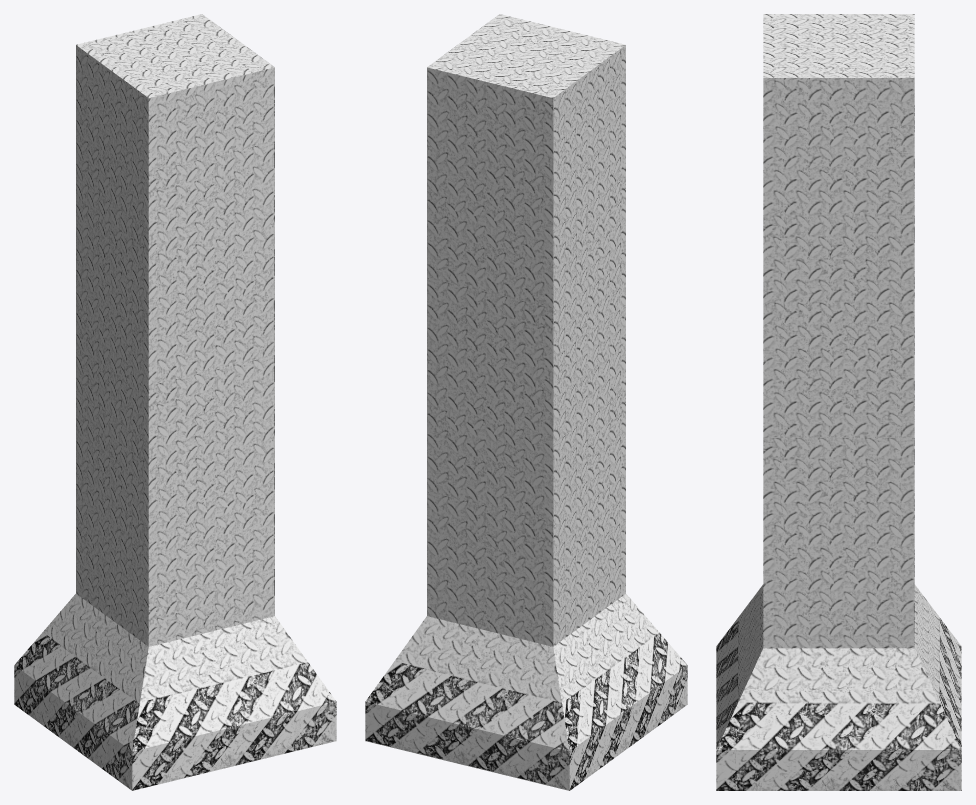
The model's file is SteelColumn.fbx.
The picture shows the model from 3 angles, left to right: view 1: azimuth 30°, elevation 25°; view 2: azimuth 150°, elevation 25°; view 3: azimuth 270°, elevation 25°; orthographic projection. The views are drawn at different scales.
Visible parts, largest first — view 1: Steel Pylon; view 2: Steel Pylon; view 3: Steel Pylon.
Part boxes in pixels (left/top/right/bottom): Steel Pylon: left=14, top=14, right=336, bottom=790; Steel Pylon: left=365, top=14, right=687, bottom=790; Steel Pylon: left=716, top=14, right=961, bottom=790.
Bounding box in the file's own units: 200 × 624 × 200.
Materials: 1 (1 with a texture image).
